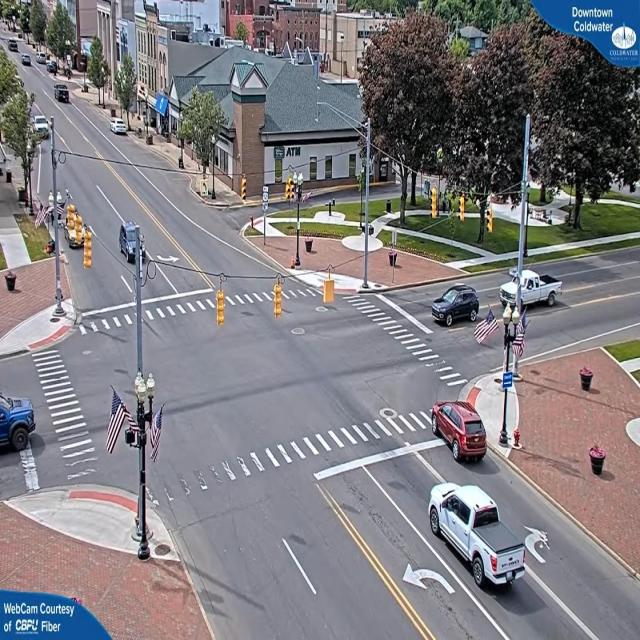car: (427, 481, 530, 595), (433, 401, 489, 464), (0, 393, 35, 457), (431, 282, 481, 326), (522, 271, 564, 311), (118, 221, 145, 262), (111, 120, 129, 136), (55, 85, 70, 103)
